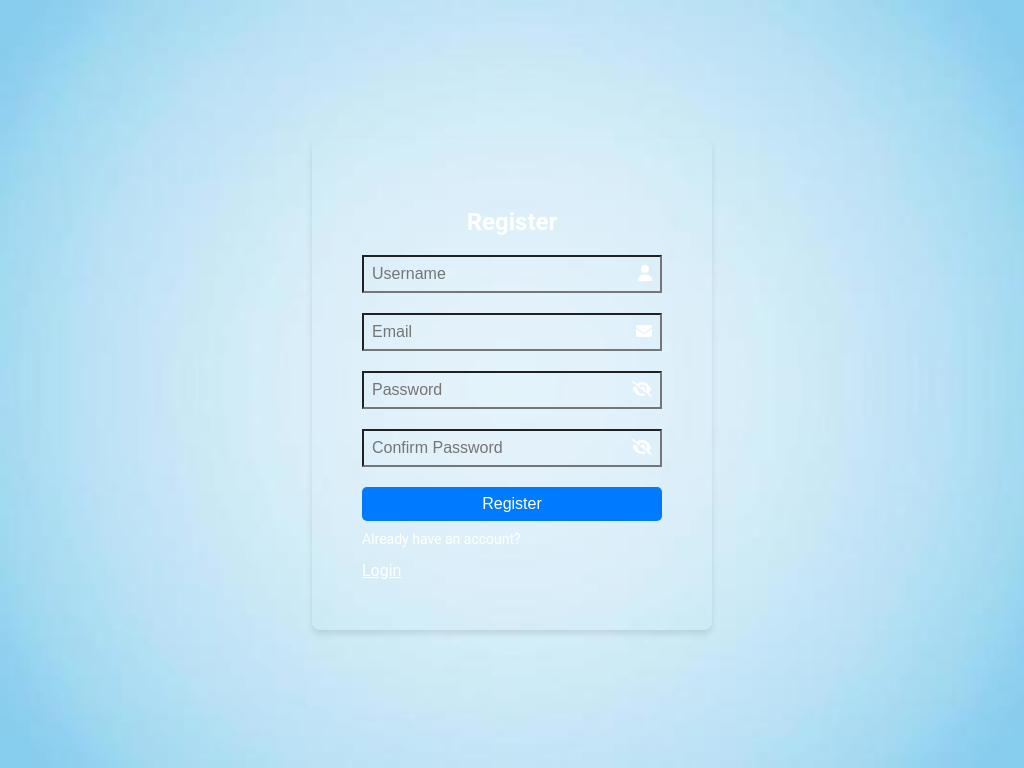
Scenario: Register Component › should display error message when passwords do not match
In the password field with placeholder "Password": (512, 390) x1=362 y1=371 x2=662 y2=409, type "StrongPassword123#"
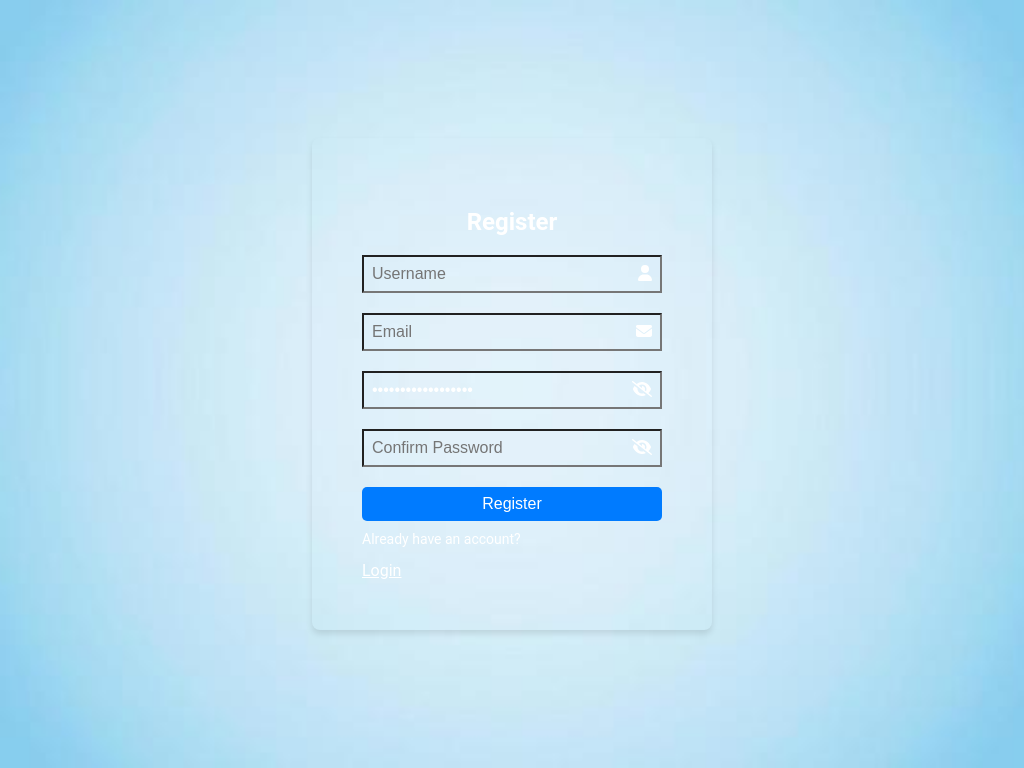
In the password field with placeholder "Confirm Password": (512, 448) x1=362 y1=429 x2=662 y2=467, type "MismatchedPassword"
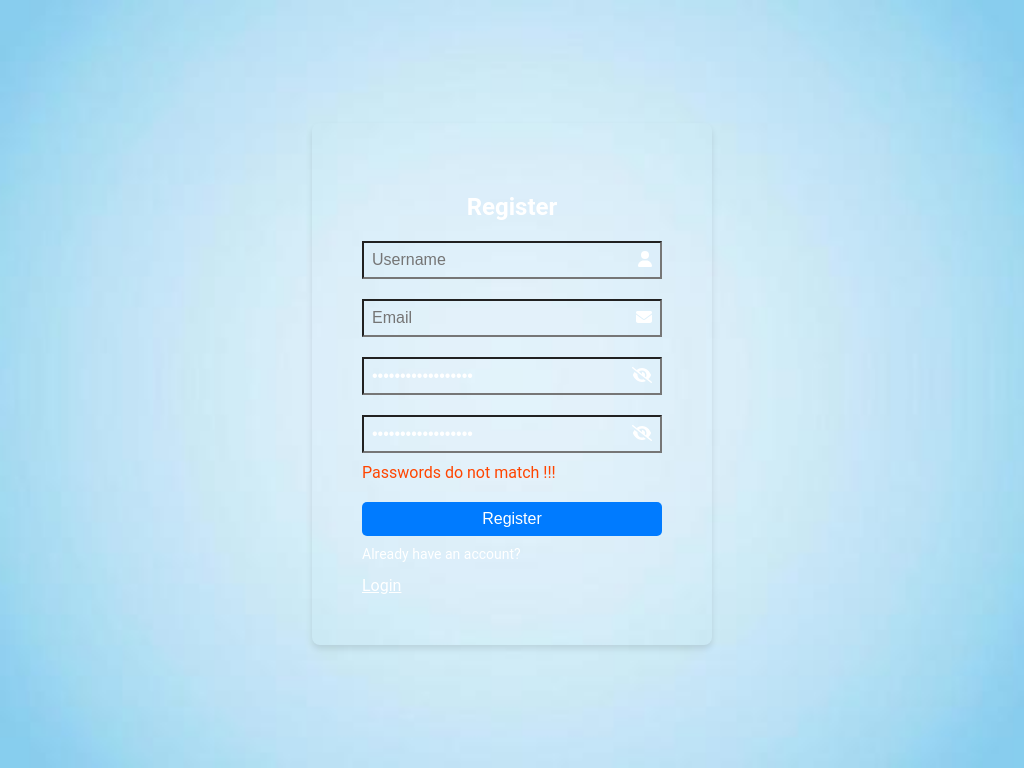
Result: the text "Passwords do not match !!!" is shown at x1=362 y1=463 x2=556 y2=482
